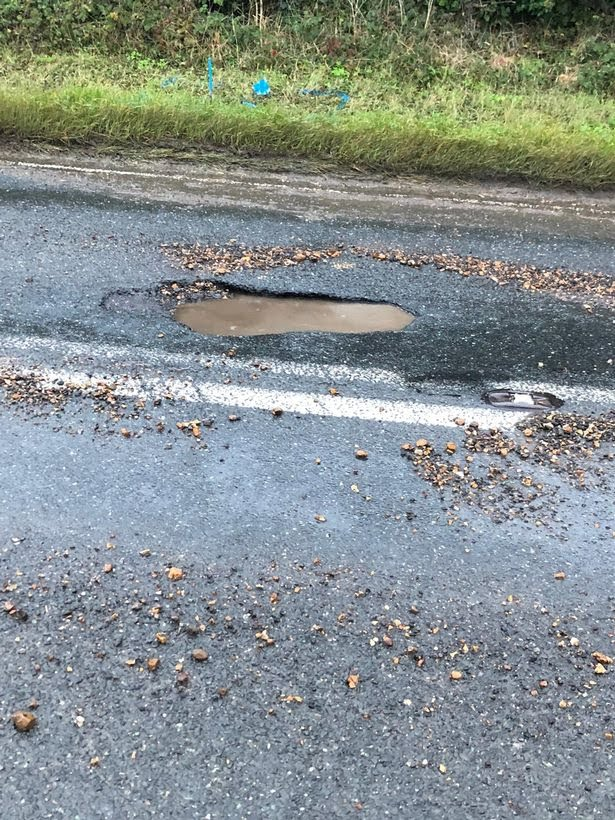pothole: (92, 272, 422, 342)
